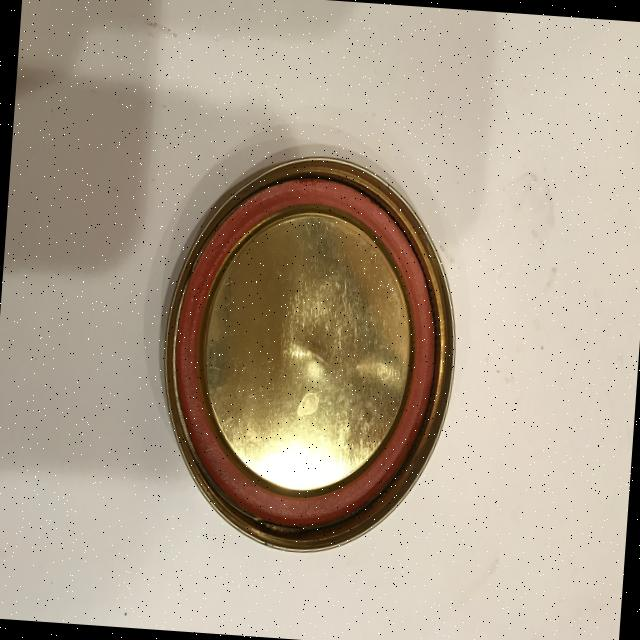metal: (150, 145, 468, 562)
